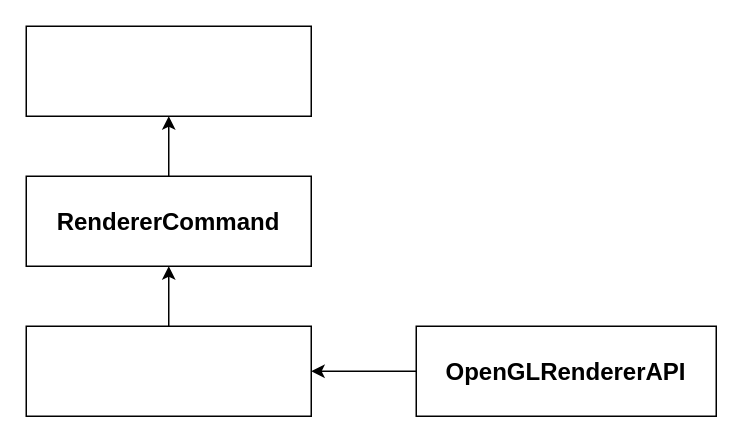
This 743x443 diagram has some shape labels left out. Here are the shapes that lost their labels. From the top down, the centre of each, then its label:
point 168,70: Renderer
point 168,370: RendererAPI
